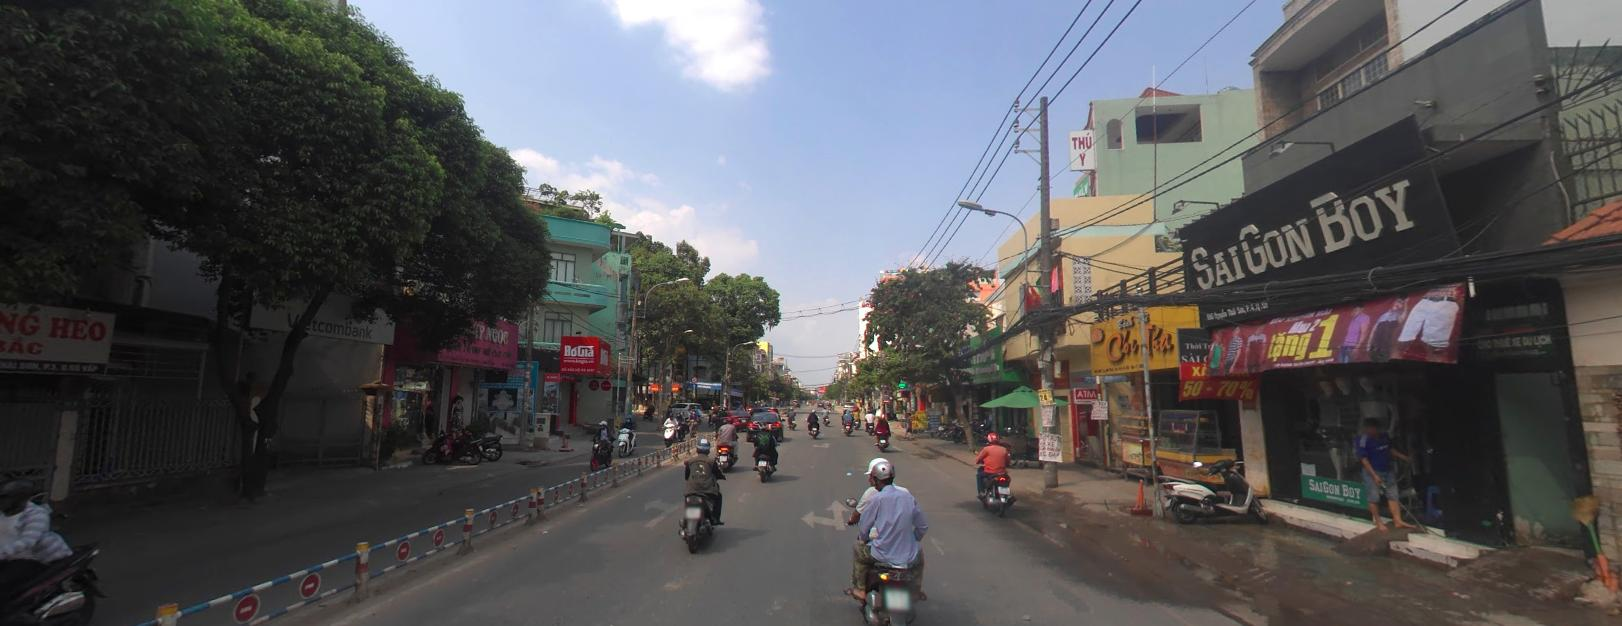Cam con lai: (691, 374, 697, 381)
